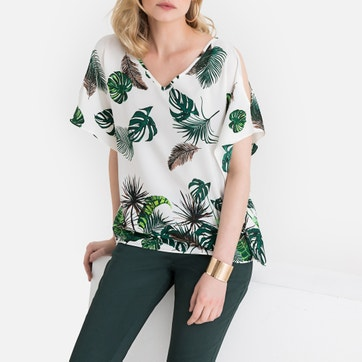C_short blouse: (69, 35, 280, 267)
